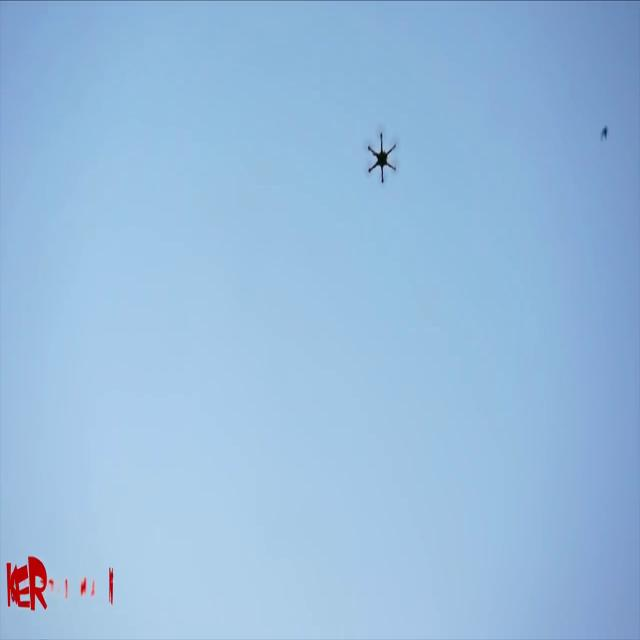drone: (358, 116, 403, 194)
